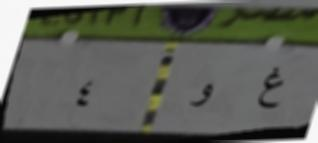4: (68, 75, 101, 114)
ghayn: (252, 63, 287, 117)
waw: (184, 75, 219, 118)
